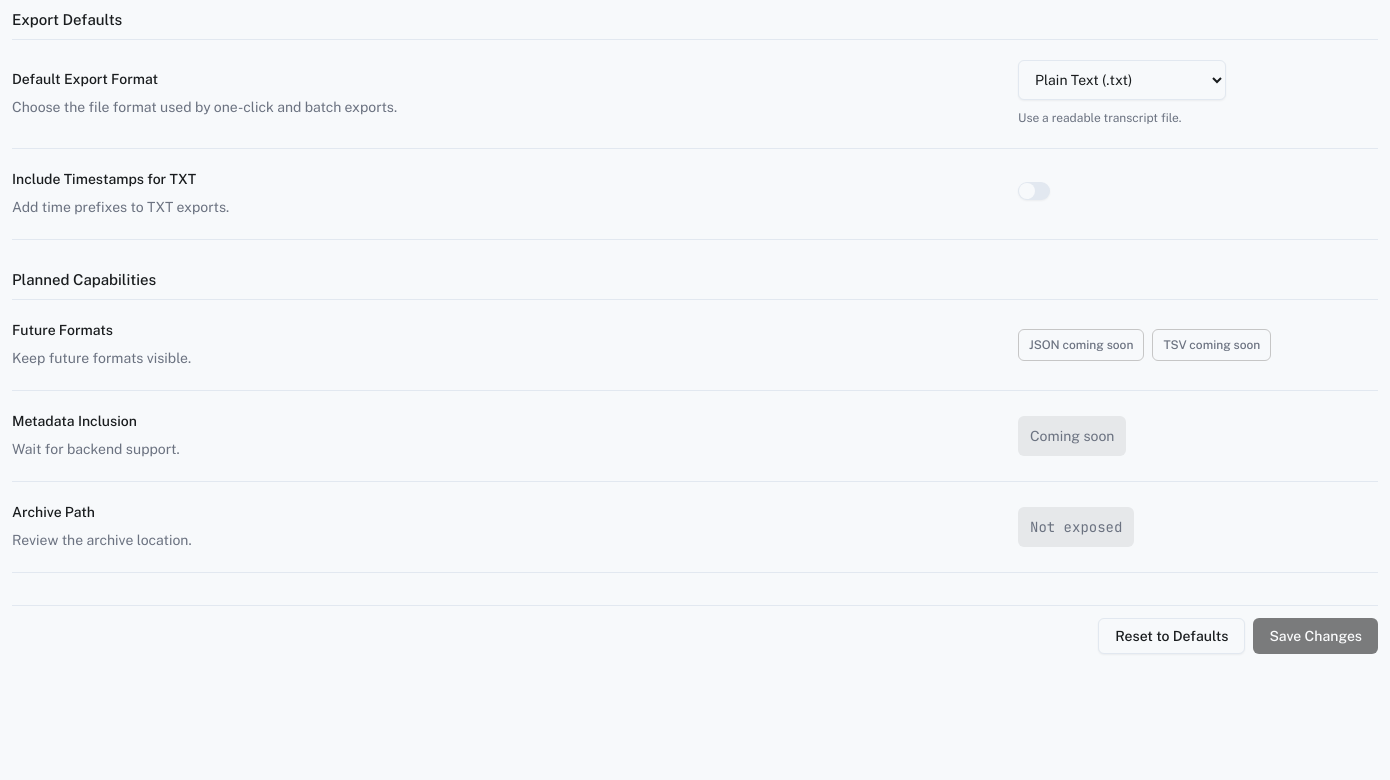
Test: ExportTab › resets export defaults and reloads the effective values
Expected: the dropdown labelled "Default Export Format" shows "Plain Text (.txt)", top-left (1018, 60), bottom-right (1226, 100)
What coordinates should you click on to do the following:
click the button "Reset to Defaults"
I would click on:
 (1172, 636)
Its box is top-left (1098, 618), bottom-right (1246, 654).
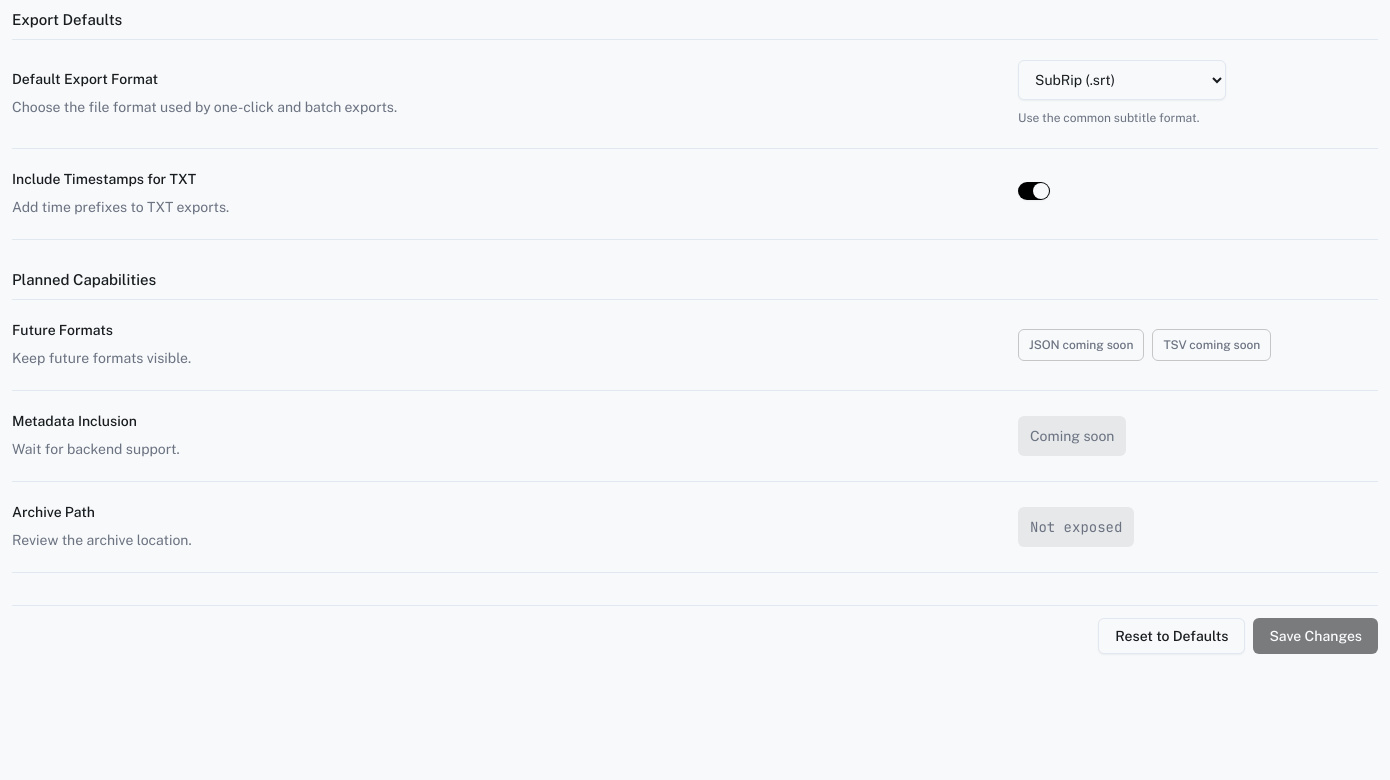
Now the dropdown labelled "Default Export Format" shows "SubRip (.srt)", box top-left (1018, 60), bottom-right (1226, 100)
